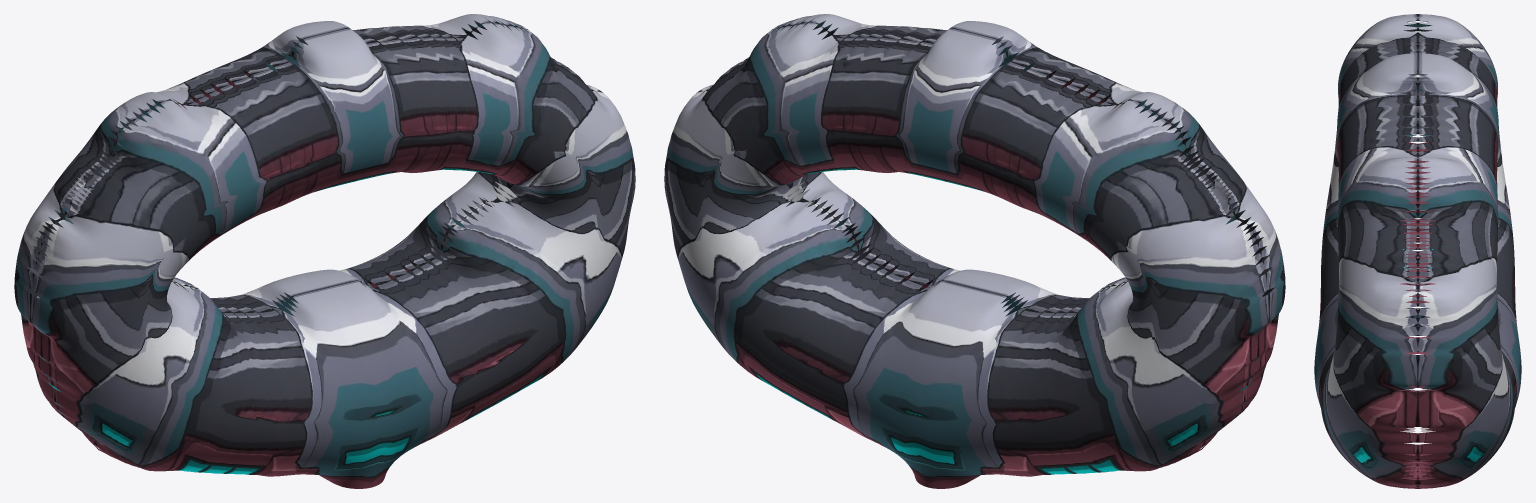
File: assembly_gantry.glb
The picture shows the model from 3 angles, left to right: view 1: azimuth 30°, elevation 25°; view 2: azimuth 150°, elevation 25°; view 3: azimuth 270°, elevation 25°; orthographic projection. The views are drawn at different scales.
Visible parts, largest first — view 1: assembly_gantry; view 2: assembly_gantry; view 3: assembly_gantry.
Boxes of the visible parts, x1,y1,x2,y2 form: assembly_gantry: [14, 14, 635, 488]; assembly_gantry: [664, 14, 1285, 488]; assembly_gantry: [1314, 14, 1521, 488].
Bounding box in the file's own units: 0.989 × 0.6762 × 0.3363.
Materials: 1 (1 with a texture image).
